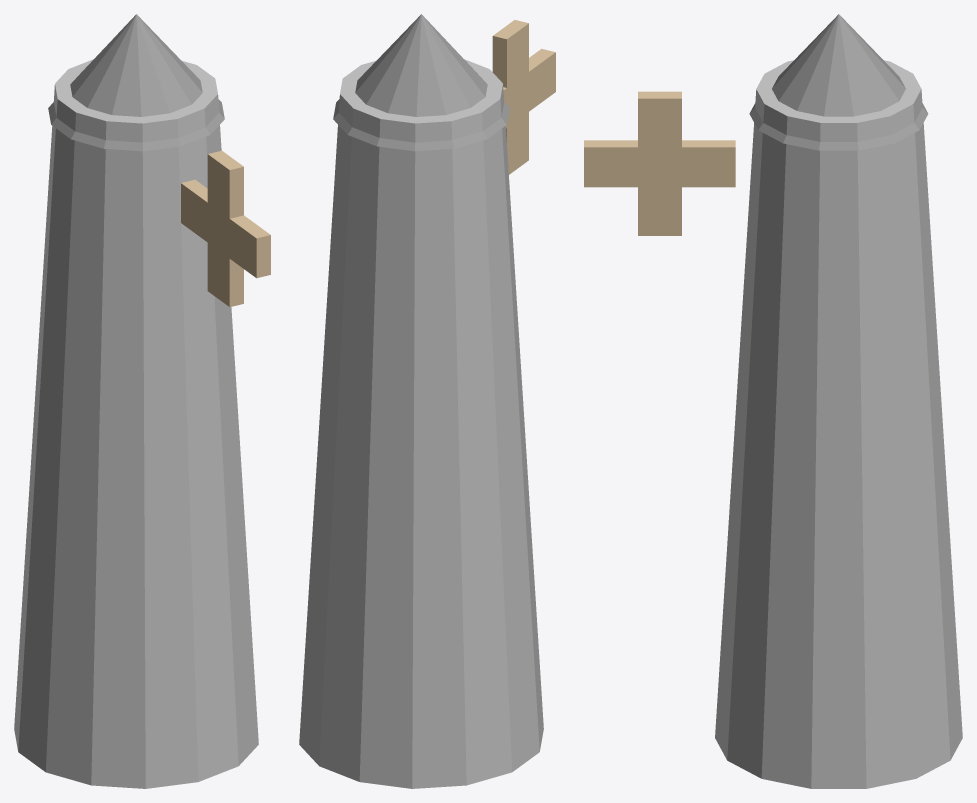
The model's file is SM_Env_Windmill_01.glb.
The picture shows the model from 3 angles, left to right: view 1: azimuth 30°, elevation 25°; view 2: azimuth 150°, elevation 25°; view 3: azimuth 270°, elevation 25°; orthographic projection.
Visible parts, largest first — view 1: SM_Windmill_Tower, SM_Windmill_Cap, SM_Windmill_Blade_0, SM_Windmill_Blade_1, SM_Windmill_Blade_2, SM_Windmill_Blade_3; view 2: SM_Windmill_Tower, SM_Windmill_Cap, SM_Windmill_Blade_1, SM_Windmill_Blade_3, SM_Windmill_Blade_0, SM_Windmill_Blade_2; view 3: SM_Windmill_Tower, SM_Windmill_Cap, SM_Windmill_Blade_0, SM_Windmill_Blade_1, SM_Windmill_Blade_3, SM_Windmill_Blade_2.
Boxes of the visible parts, left/top/right/bottom form: SM_Windmill_Tower: left=14, top=59, right=258, bottom=788; SM_Windmill_Cap: left=48, top=14, right=224, bottom=151; SM_Windmill_Blade_0: left=181, top=179, right=270, bottom=278; SM_Windmill_Blade_1: left=207, top=150, right=243, bottom=306; SM_Windmill_Blade_2: left=181, top=180, right=270, bottom=275; SM_Windmill_Blade_3: left=207, top=151, right=243, bottom=305; SM_Windmill_Tower: left=299, top=59, right=543, bottom=788; SM_Windmill_Cap: left=333, top=14, right=509, bottom=151; SM_Windmill_Blade_1: left=492, top=20, right=528, bottom=174; SM_Windmill_Blade_3: left=492, top=21, right=528, bottom=140; SM_Windmill_Blade_0: left=503, top=48, right=555, bottom=128; SM_Windmill_Blade_2: left=503, top=52, right=555, bottom=117; SM_Windmill_Tower: left=715, top=60, right=962, bottom=788; SM_Windmill_Cap: left=749, top=14, right=928, bottom=150; SM_Windmill_Blade_0: left=584, top=140, right=735, bottom=187; SM_Windmill_Blade_1: left=638, top=91, right=681, bottom=235; SM_Windmill_Blade_3: left=638, top=91, right=681, bottom=235; SM_Windmill_Blade_2: left=584, top=140, right=735, bottom=182.
Bounding box in the file's own units: 1.75 × 5.8 × 2.75.
